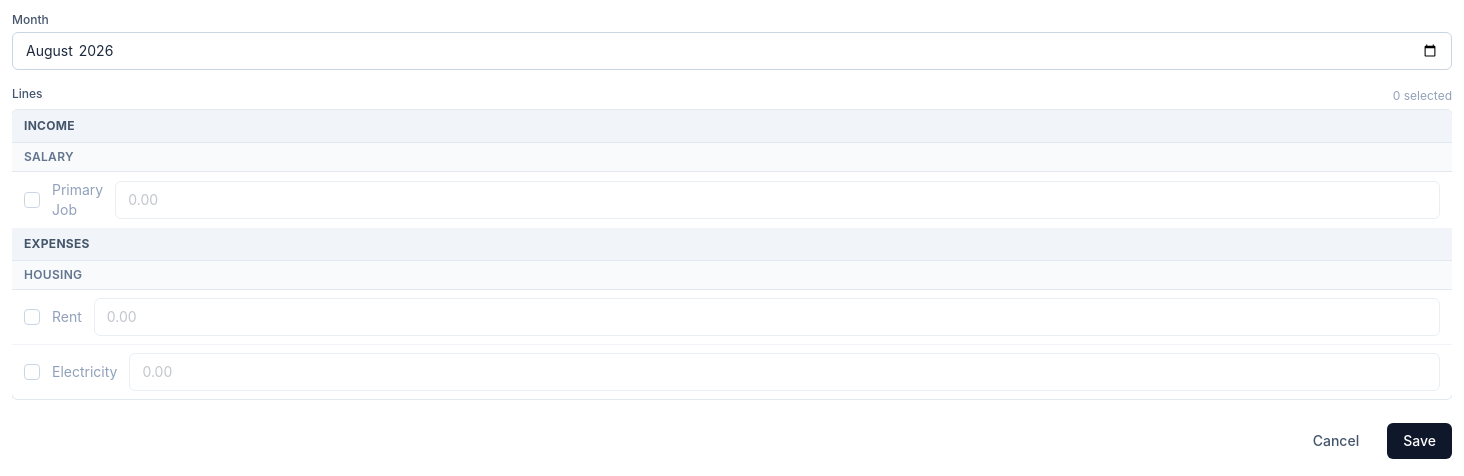
BudgetPlanForm › disables an unchecked line's amount until it is included
Check: the number field named "Amount for Rent" is disabled, box [94,298,1440,336]
Click the checkbox named "Include Rent" at (32, 317), box [24,309,40,325]
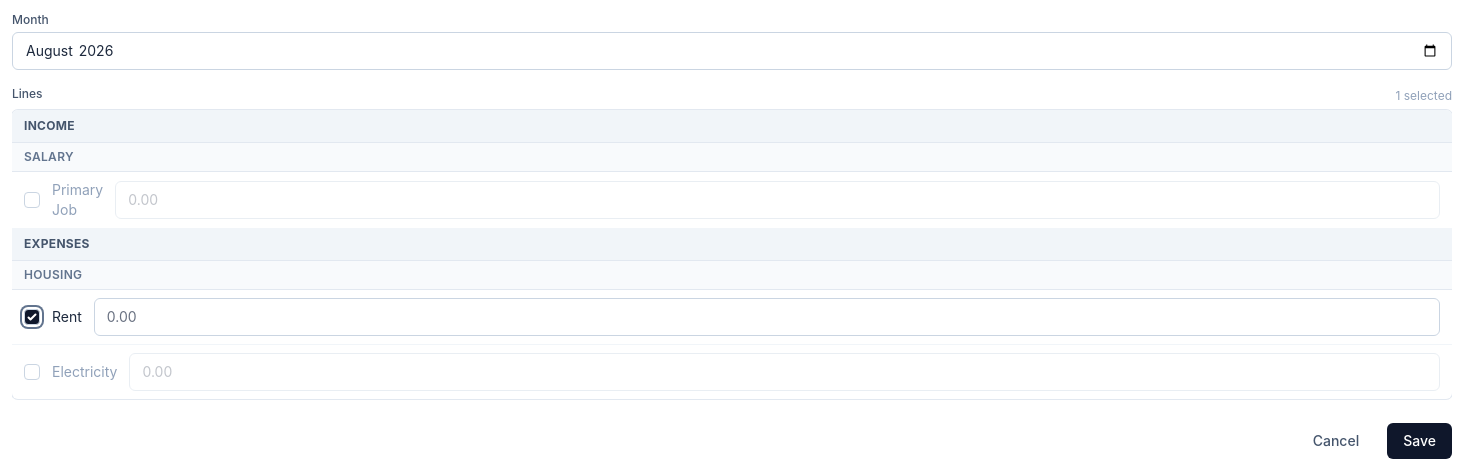
Check: the number field named "Amount for Rent" is enabled, box [94,298,1440,336]
